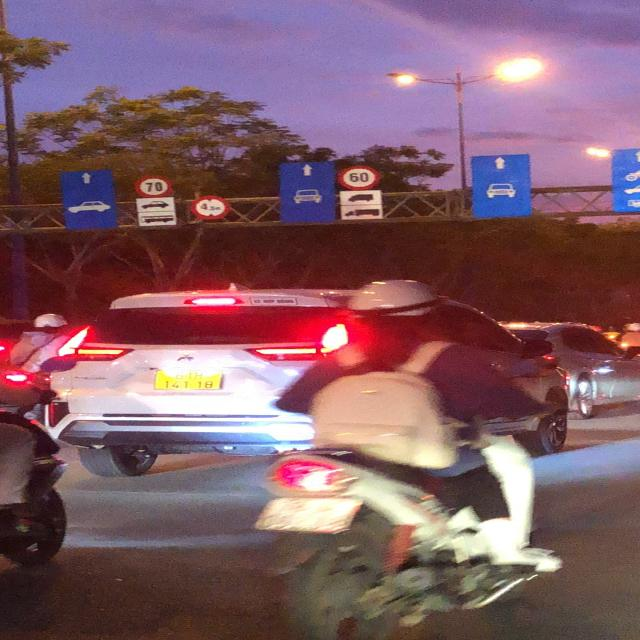Bien bao han che chieu cao: (190, 194, 230, 222)
Bien bao toc do toi da cho phep: (333, 165, 387, 192), (132, 174, 182, 198)
